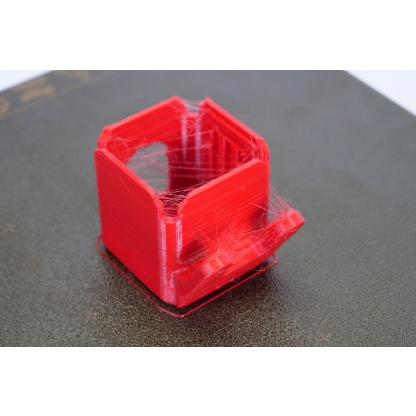fail: (158, 188, 182, 212)
